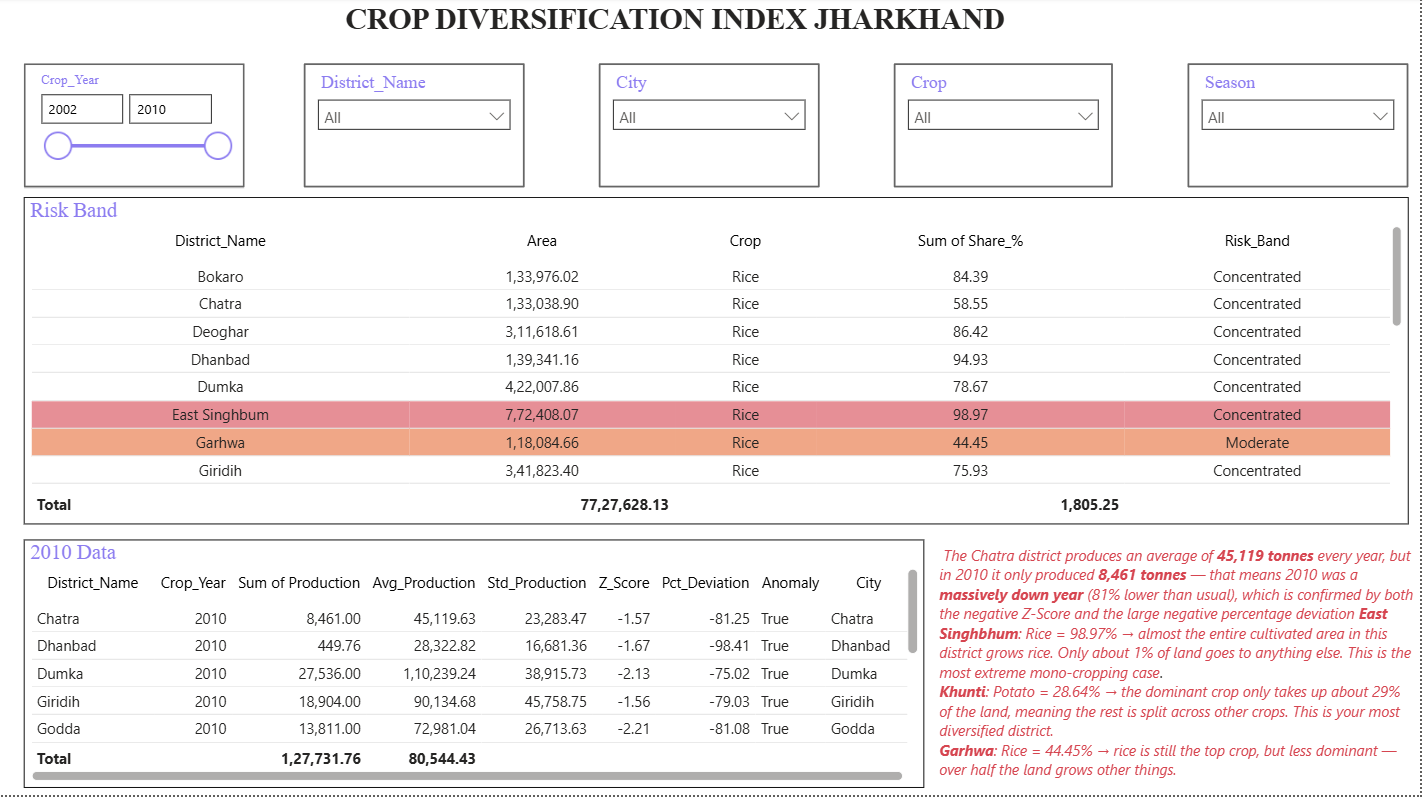

What the dashboard file says about the page in this screenshot:
{"tool":"powerbi","page":{"name":"Anomaly","canvas":[1280,720],"ordinal":2},"visuals":[{"type":"slicer","fields":{"Values":["yearly_trend.Crop_Year"]},"box":[21.1,59.7,199,112],"z":0},{"type":"slicer","fields":{"Values":["yearly_trend.District_Name"]},"box":[273.7,59.7,199,112],"z":1},{"type":"slicer","fields":{"Values":["district_summary.City"]},"box":[539.9,59.7,199,112],"z":2},{"type":"slicer","fields":{"Values":["Jharkhand.Crop"]},"box":[806.1,59.7,197.8,112],"z":3},{"type":"slicer","fields":{"Values":["Jharkhand.Season"]},"box":[1071,59.7,199,112],"z":4},{"type":"textbox","box":[283.6,0,649.3,41.1],"z":6},{"type":"tableEx","title":"2010 Data","fields":{"Values":["anomalies.District_Name","anomalies.Crop_Year","Sum(anomalies.Production)","Avg(anomalies.Avg_Production)","anomalies.Std_Production","anomalies.Z_Score","anomalies.Pct_Deviation","anomalies.Anomaly","anomalies.City"]},"box":[21.1,488.9,812.3,223.9],"z":9},{"type":"textbox","box":[842.2,488.9,437.9,231.4],"z":10},{"type":"tableEx","title":"Risk Band","fields":{"Values":["risk_band.District_Name","Sum(risk_band.Area)","risk_band.Crop","Sum(risk_band.Share_%)","risk_band.Risk_Band"]},"box":[21.1,180.4,1248.9,294.8],"z":11}]}

Visuals, with their boxes in screenshot pixels (x1, y1, x2, y2), scaled from the page's 1280x720 canvas onto the 1423x800 screenshot:
slicer - yearly_trend.Crop_Year: [x1=23, y1=66, x2=245, y2=191]
slicer - yearly_trend.District_Name: [x1=304, y1=66, x2=526, y2=191]
slicer - district_summary.City: [x1=600, y1=66, x2=821, y2=191]
slicer - Jharkhand.Crop: [x1=896, y1=66, x2=1116, y2=191]
slicer - Jharkhand.Season: [x1=1191, y1=66, x2=1412, y2=191]
textbox: [x1=315, y1=0, x2=1037, y2=46]
"2010 Data" tableEx: [x1=23, y1=543, x2=927, y2=792]
textbox: [x1=936, y1=543, x2=1422, y2=799]
"Risk Band" tableEx: [x1=23, y1=200, x2=1412, y2=528]
